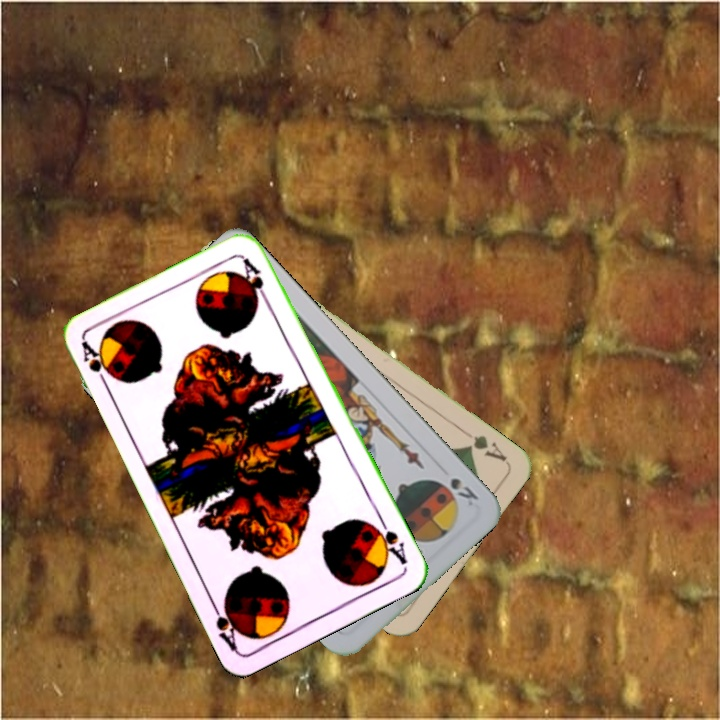GA: (458, 427, 510, 464)
SA: (367, 513, 410, 568), (77, 337, 116, 392)
SK: (446, 473, 481, 509)
